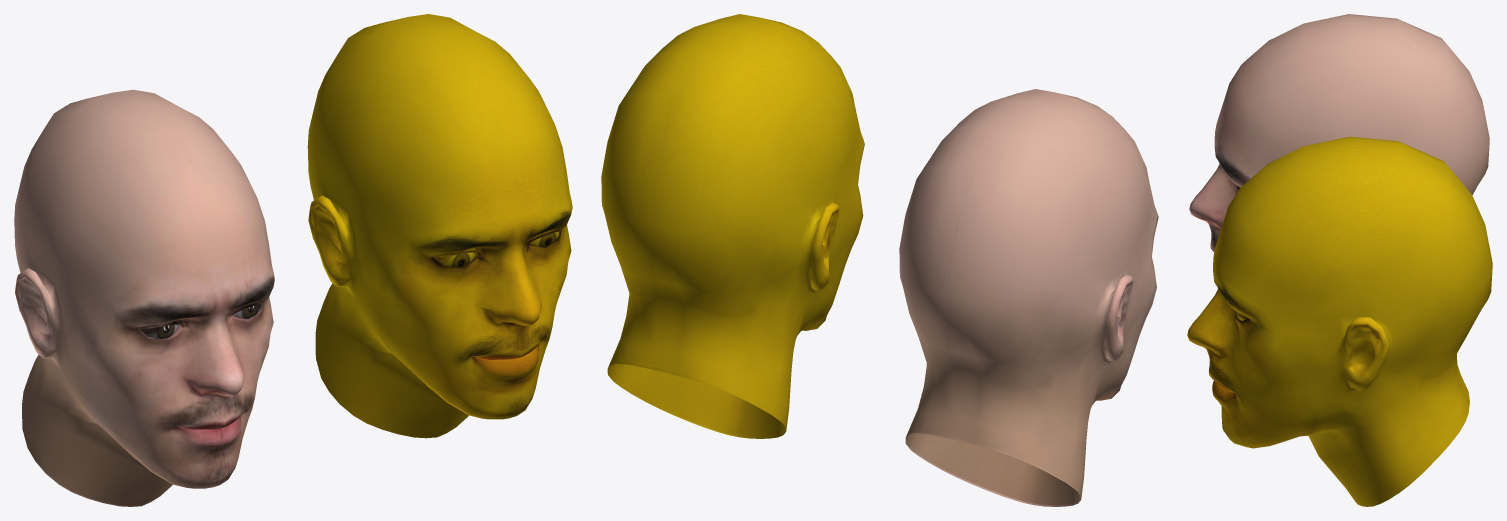
The model's file is Ictericia-sintoma.glb.
The picture shows the model from 3 angles, left to right: view 1: azimuth 30°, elevation 25°; view 2: azimuth 150°, elevation 25°; view 3: azimuth 270°, elevation 25°; orthographic projection. The views are drawn at different scales.
Visible parts, largest first — view 1: Skin, HealthSkin, Eyes, Healtheyes; view 2: Skin, HealthSkin; view 3: Skin, HealthSkin.
Part boxes in pixels (x1,y1,x2,y2): Skin: (307, 14, 572, 438); HealthSkin: (14, 89, 274, 506); Eyes: (435, 231, 559, 267); Healtheyes: (140, 303, 261, 339); Skin: (601, 14, 864, 438); HealthSkin: (899, 89, 1158, 506); Skin: (1187, 136, 1492, 506); HealthSkin: (1189, 14, 1489, 251).
Size of the model in its own units: 0.7778 by 0.5839 by 0.4584.
Materials: 4 (4 with a texture image).
